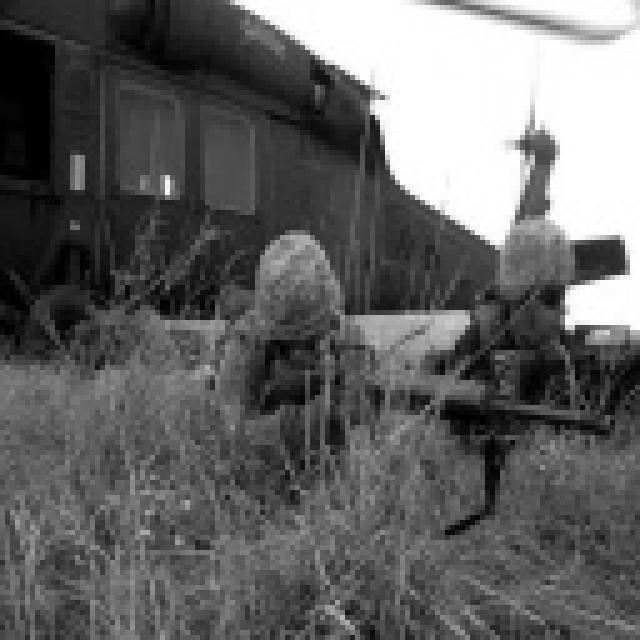Rifle: (237, 350, 630, 536)
